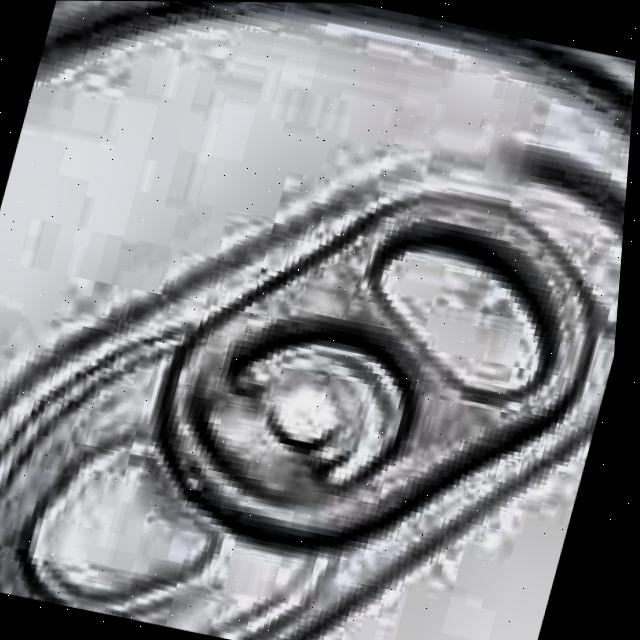metal: (0, 0, 637, 640)
